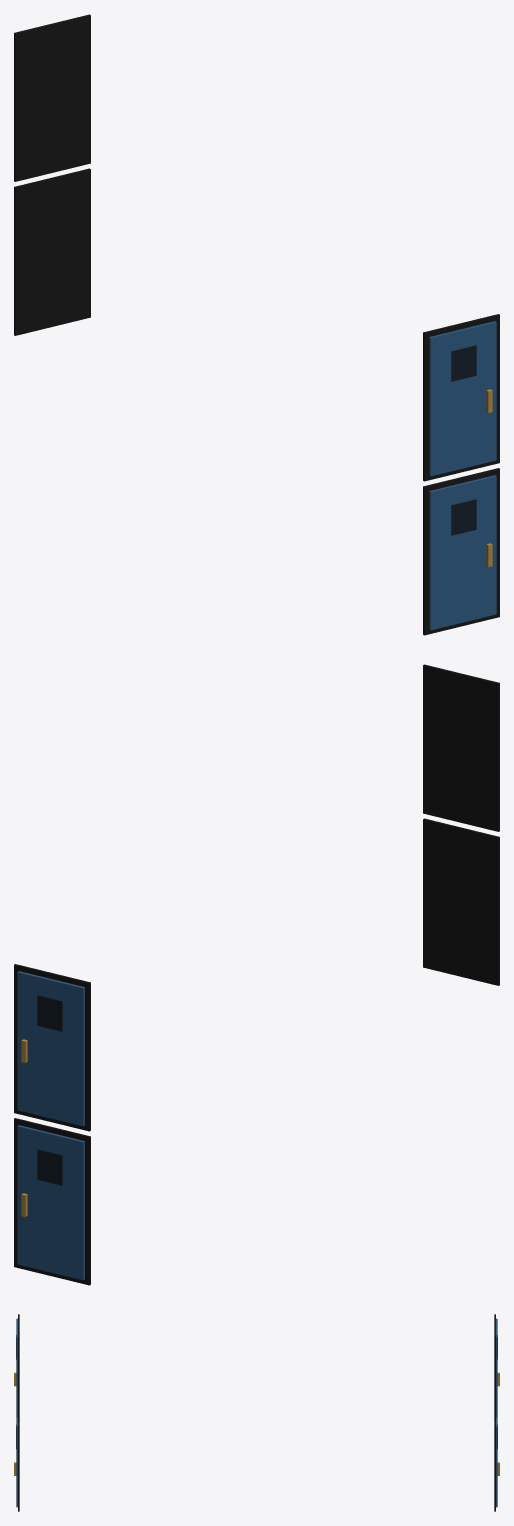
File: pax100_seal.obj
The picture shows the model from 3 angles, top to bottom: view 1: azimuth 30°, elevation 25°; view 2: azimuth 150°, elevation 25°; view 3: azimuth 270°, elevation 25°; orthographic projection. The views are drawn at different scales.
Visible parts, largest first — view 1: pax100_seal; view 2: pax100_seal; view 3: pax100_seal.
Part boxes in pixels (x1,y1,x2,y2): pax100_seal: (14,14,499,635); pax100_seal: (14,664,499,1285); pax100_seal: (14,1314,499,1511).
Bounding box in the file's own units: 1.1 × 4.2 × 10.52.
